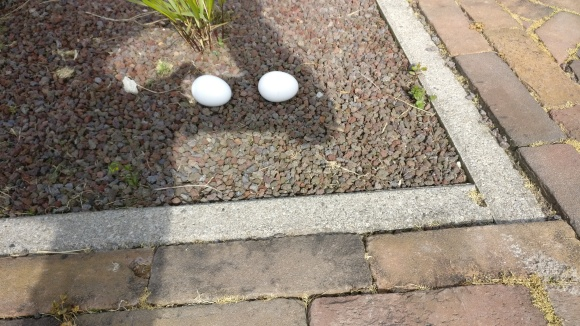egg: (257, 70, 300, 103), (191, 74, 233, 107)
